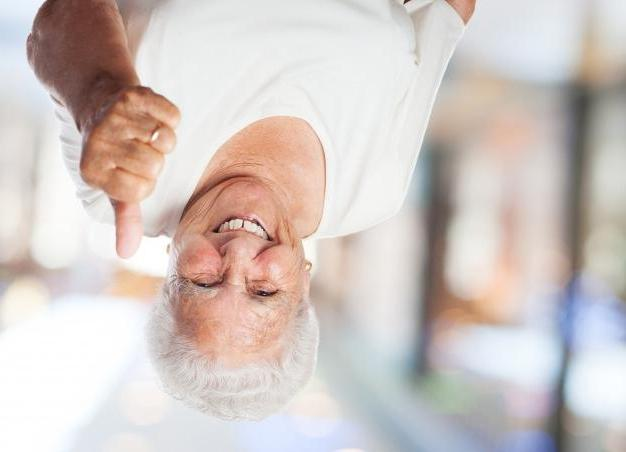thumbsdown: (79, 85, 181, 259)
